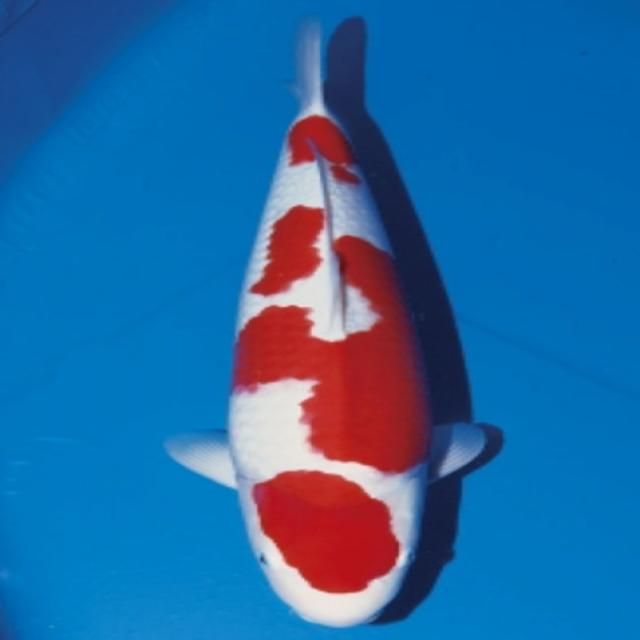Kohaku: (162, 14, 503, 628)
